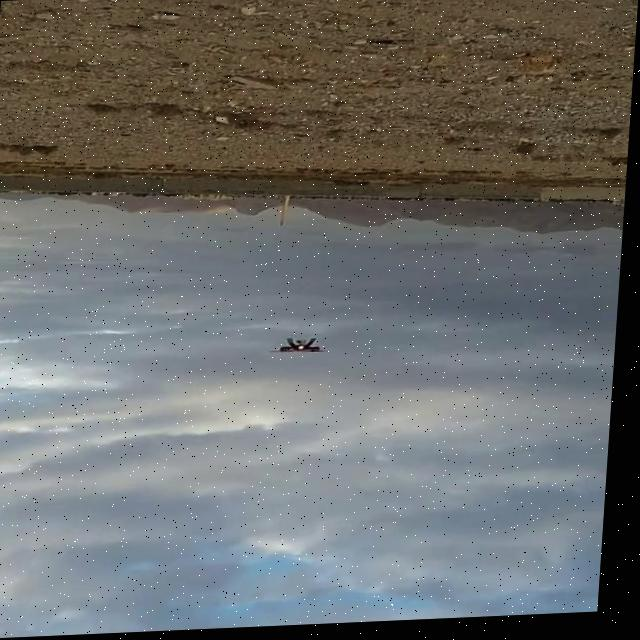drone: (277, 336, 338, 362)
